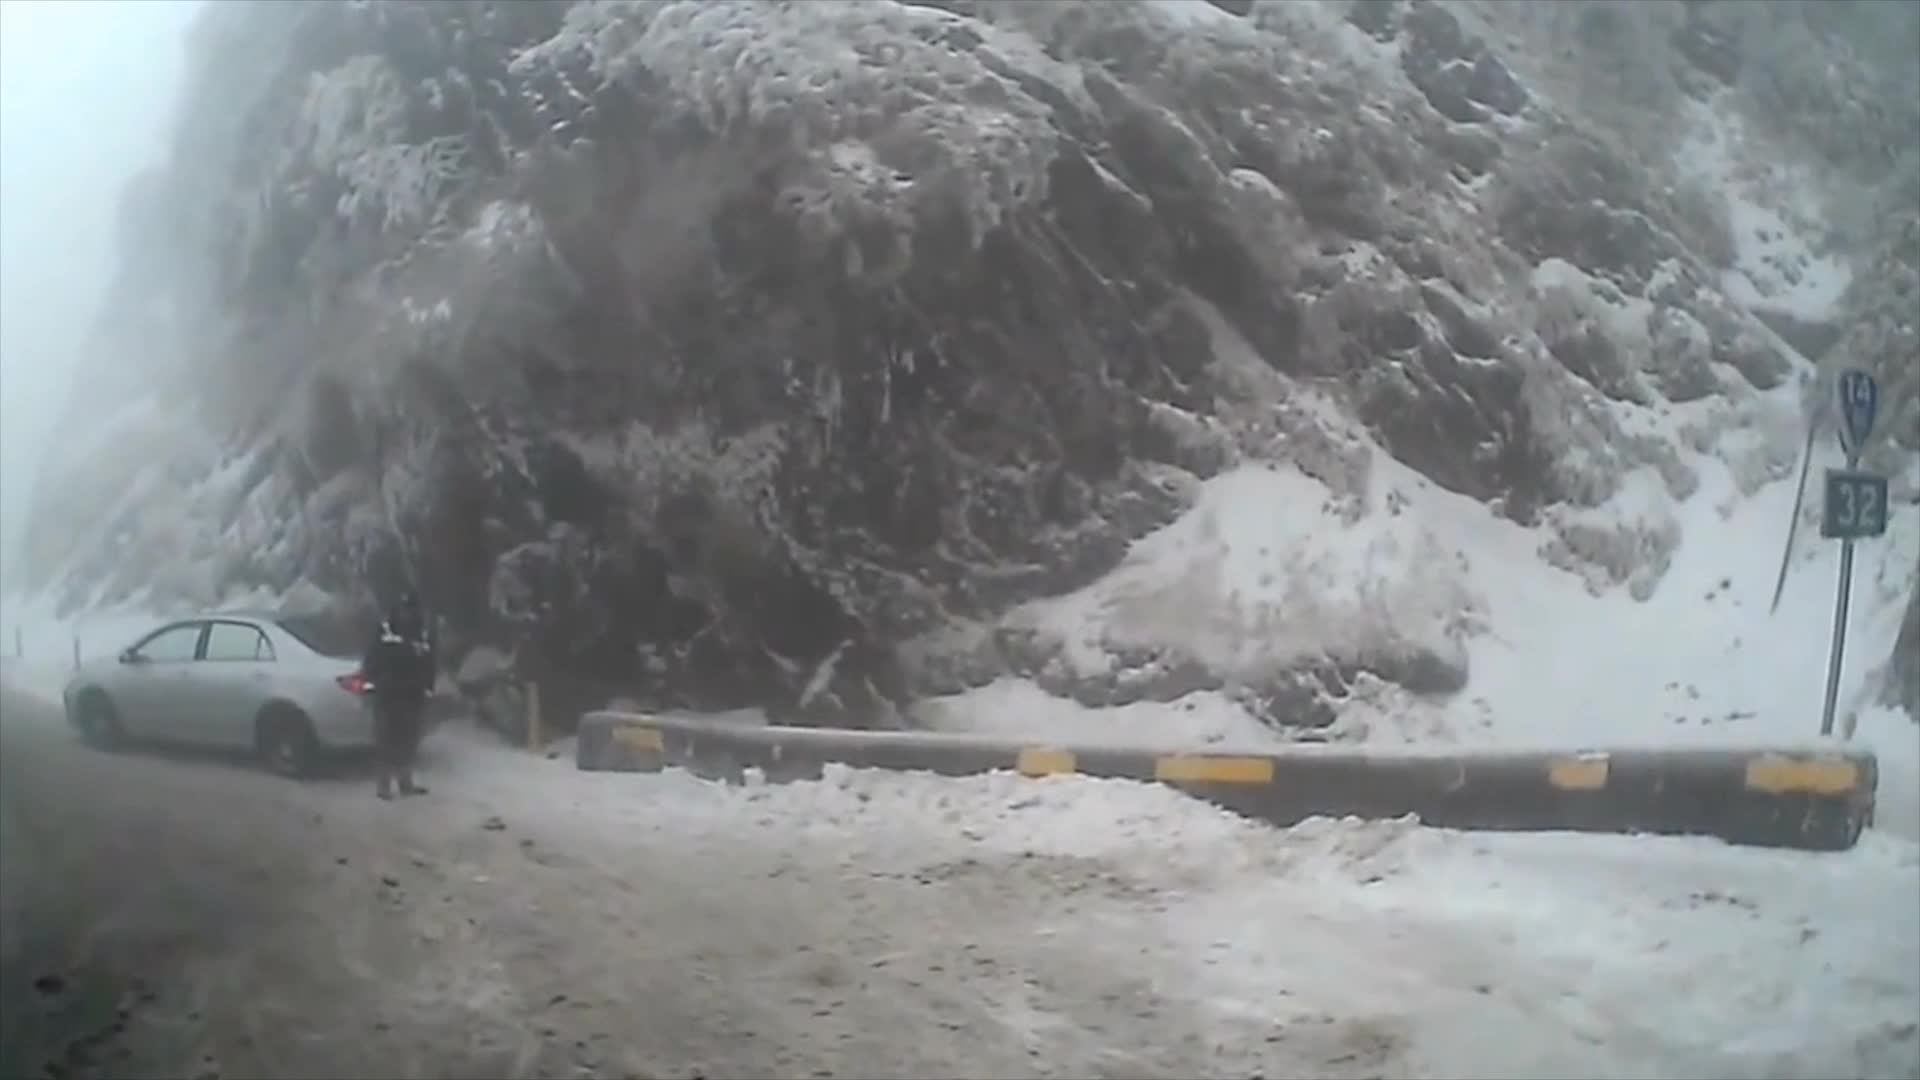pedestrian: (365, 594, 443, 800)
vehicle: (65, 607, 442, 783)
